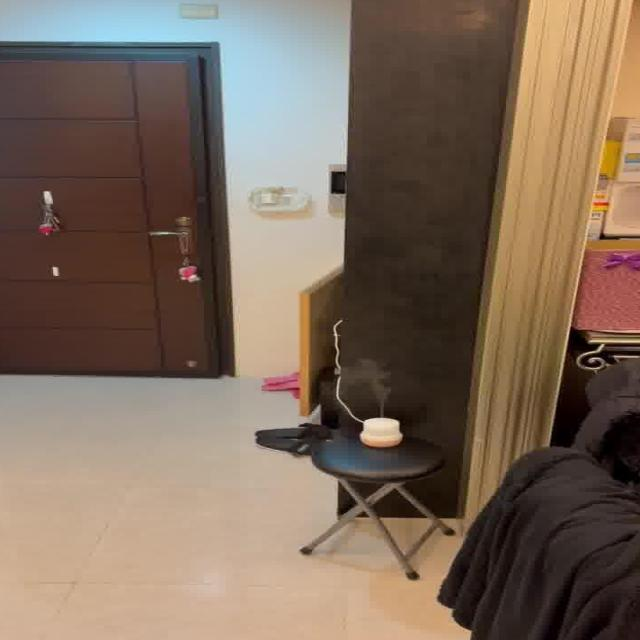fire: (349, 358, 394, 404)
